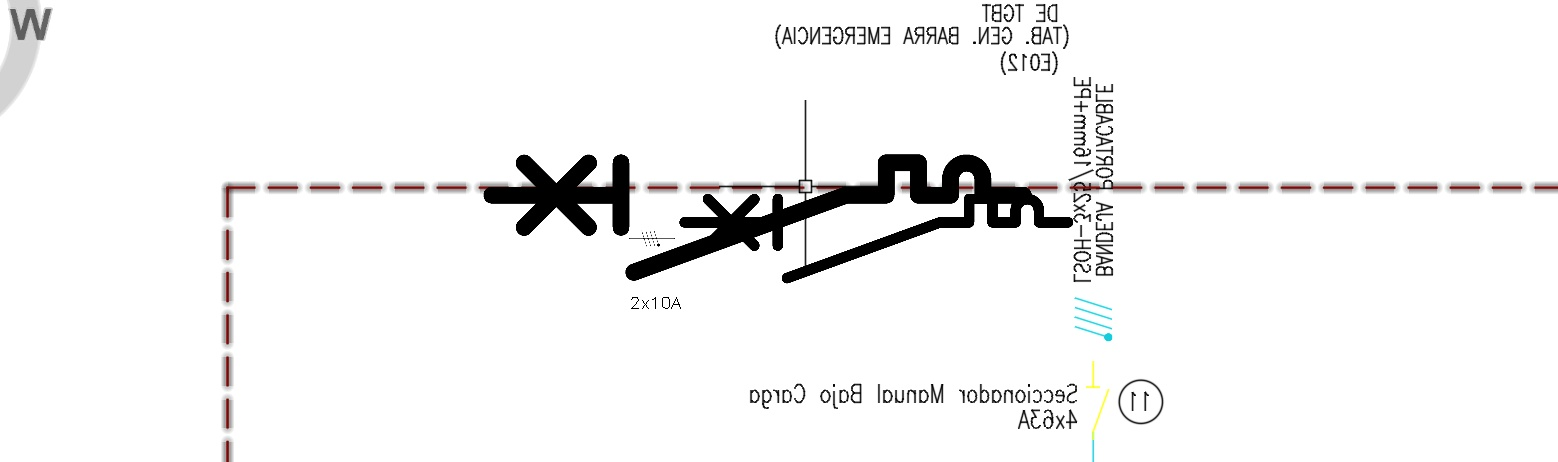interruptor_termomagnetico: (478, 149, 1037, 286), (674, 189, 1078, 288)
